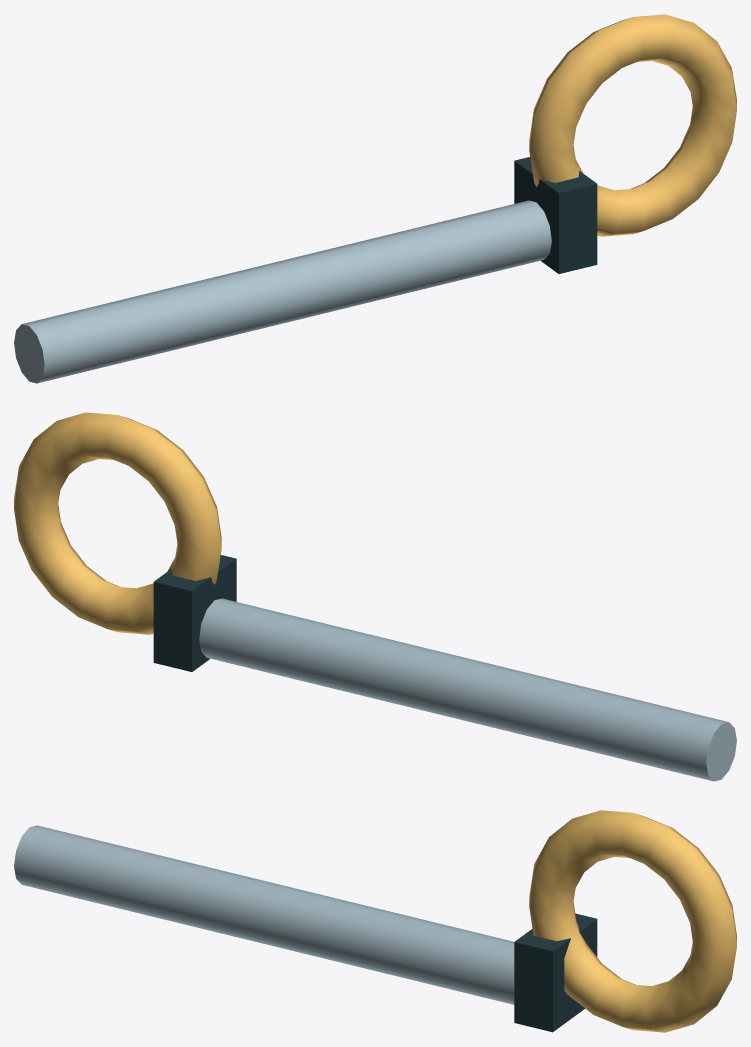
The model's file is pin-handle.glb.
The picture shows the model from 3 angles, top to bottom: view 1: azimuth 30°, elevation 25°; view 2: azimuth 150°, elevation 25°; view 3: azimuth 330°, elevation 25°; orthographic projection.
Parts seen in each view (by area): view 1: shaft, grip, stop; view 2: shaft, grip, stop; view 3: shaft, grip, stop.
Boxes of the visible parts, x1,y1,x2,y2 form: shaft: (14, 200, 551, 383); grip: (529, 14, 736, 236); stop: (514, 157, 597, 273); shaft: (199, 598, 736, 781); grip: (14, 412, 221, 634); stop: (153, 555, 236, 671); shaft: (14, 825, 514, 1004); grip: (529, 810, 736, 1032); stop: (514, 913, 597, 1032).
Bounding box in the file's own units: 1.47 × 0.43 × 0.16.
